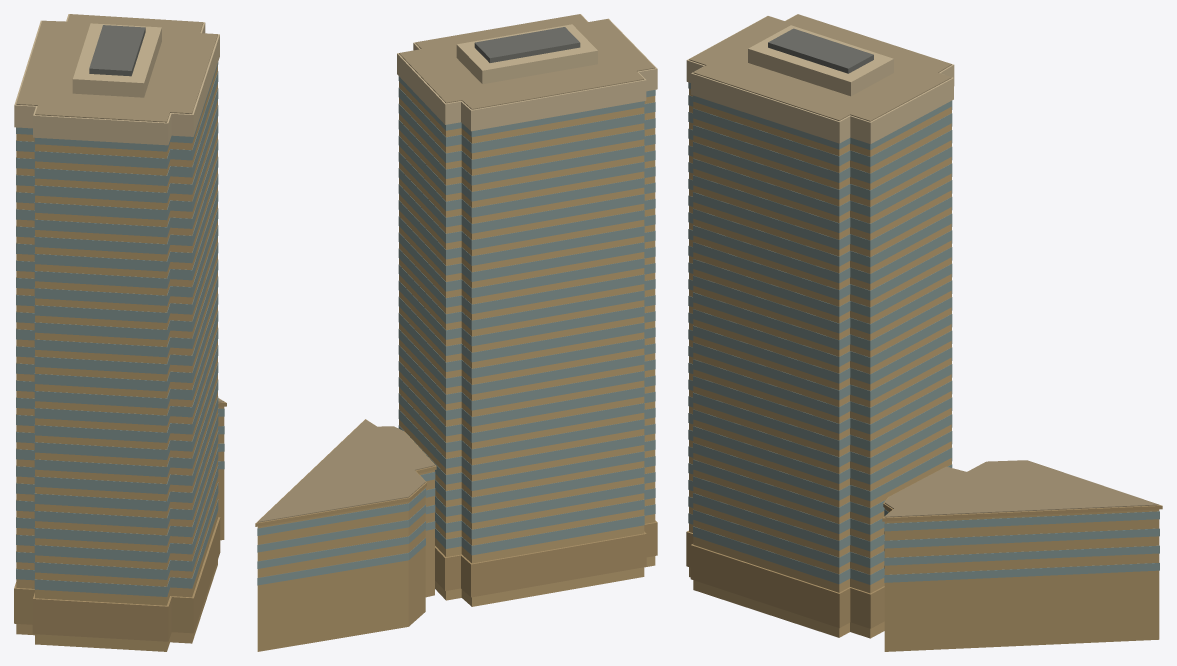
The model's file is truist-place.glb.
3 views of the same model, side by side, from view 1: azimuth 30°, elevation 25°; view 2: azimuth 150°, elevation 25°; view 3: azimuth 270°, elevation 25° (orthographic). The views are drawn at different scales.
Parts seen in each view (by area): view 1: wing; view 2: wing; view 3: wing.
Part boxes in pixels (x1,y1,x2,y2): wing: (14,14,226,651); wing: (255,14,657,651); wing: (686,14,1162,651).
Size of the model in its own units: 61.06 by 125 by 101.
